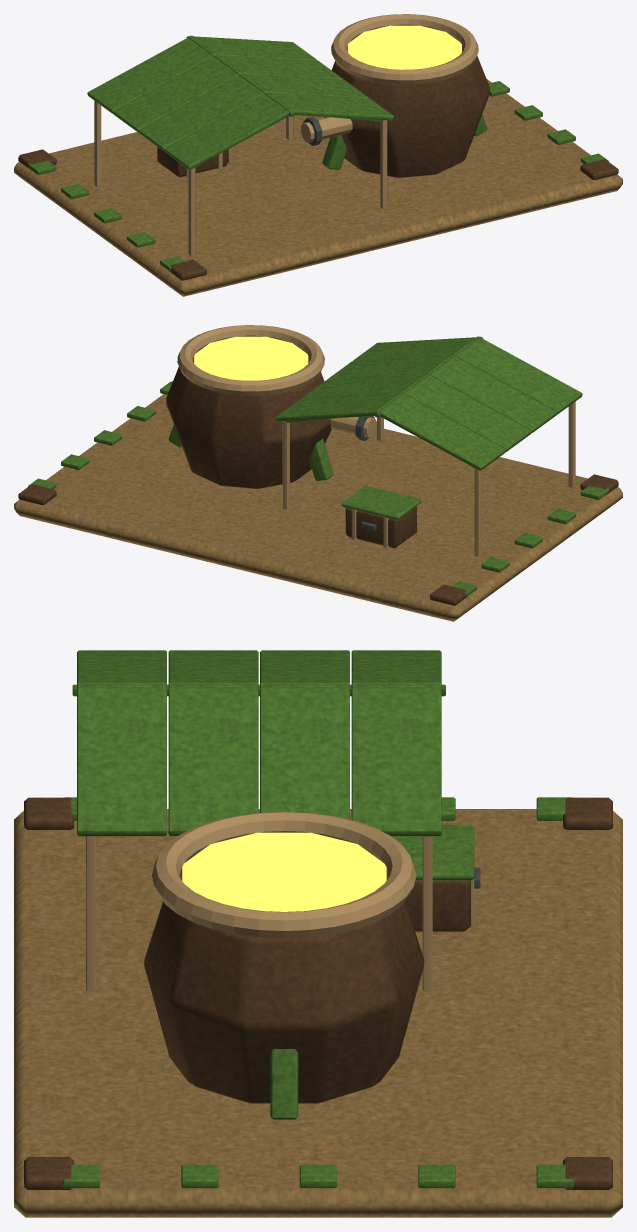
File: vael_forge_nomade.gltf
3 renders of one model, top to bottom at view 1: azimuth 30°, elevation 25°; view 2: azimuth 150°, elevation 25°; view 3: azimuth 270°, elevation 25°, orthographic. The views are drawn at different scales.
Visible parts, largest first — view 1: Root.003_Geometry; view 2: Root.003_Geometry; view 3: Root.003_Geometry.
Part boxes in pixels (bbox=[...]): Root.003_Geometry: bbox=[14, 14, 622, 296]; Root.003_Geometry: bbox=[14, 325, 622, 621]; Root.003_Geometry: bbox=[14, 650, 622, 1217].
Bounding box in the file's own units: 5.91 × 1.86 × 3.91.
6 materials, 3 textured.
